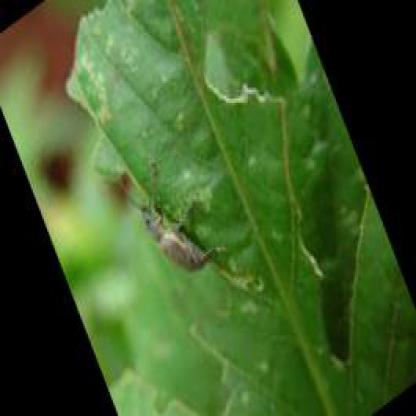ash weevil: (125, 178, 209, 271)
